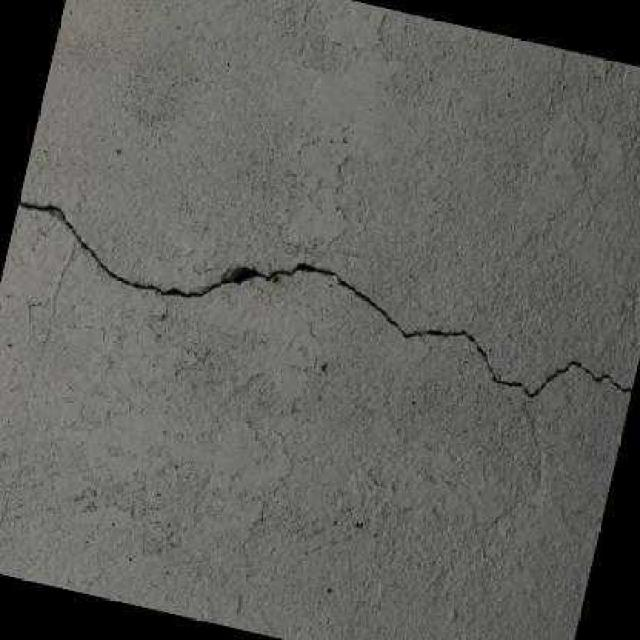D00: (18, 197, 633, 398)
